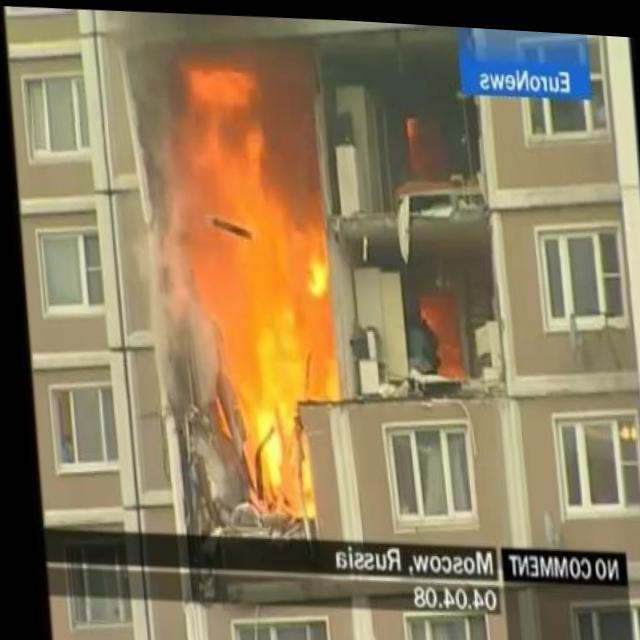fire: (146, 46, 346, 526), (417, 287, 460, 368), (403, 108, 419, 139)
